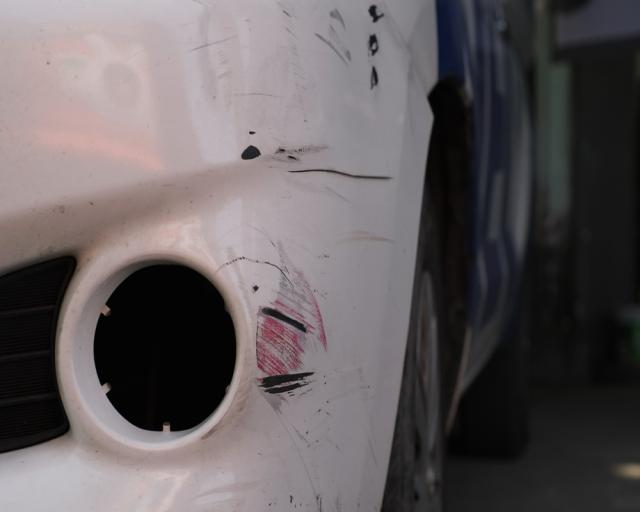scratch: (203, 0, 402, 210), (249, 245, 337, 416)
